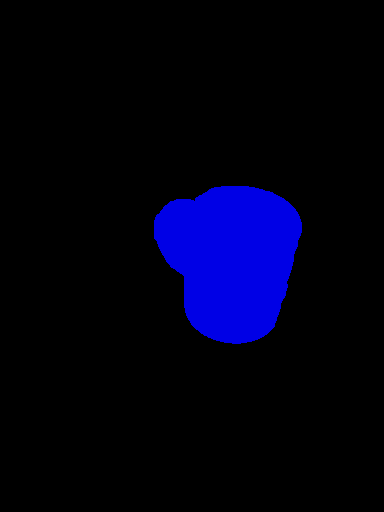cup: (153, 184, 304, 345)
